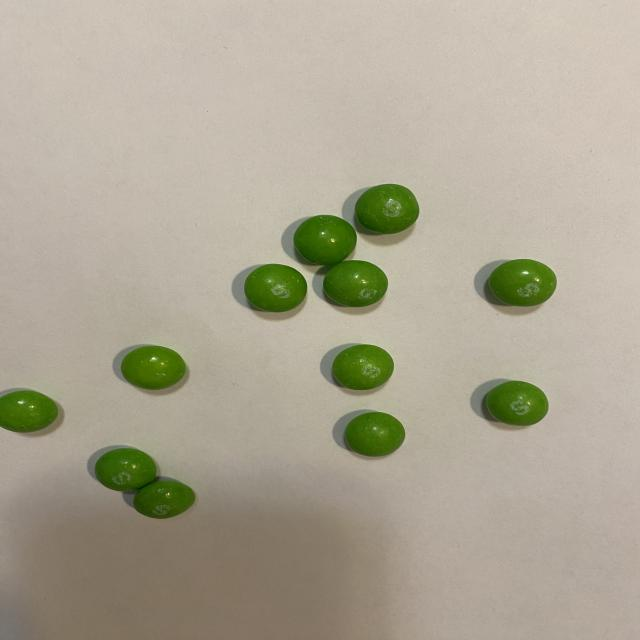smartie: (354, 183, 419, 234), (293, 215, 357, 265), (489, 259, 557, 306), (323, 260, 388, 307), (244, 264, 306, 312), (120, 346, 185, 390), (486, 381, 549, 426), (332, 345, 394, 390), (344, 412, 405, 457), (94, 449, 155, 492), (0, 391, 57, 433), (132, 482, 194, 520)
